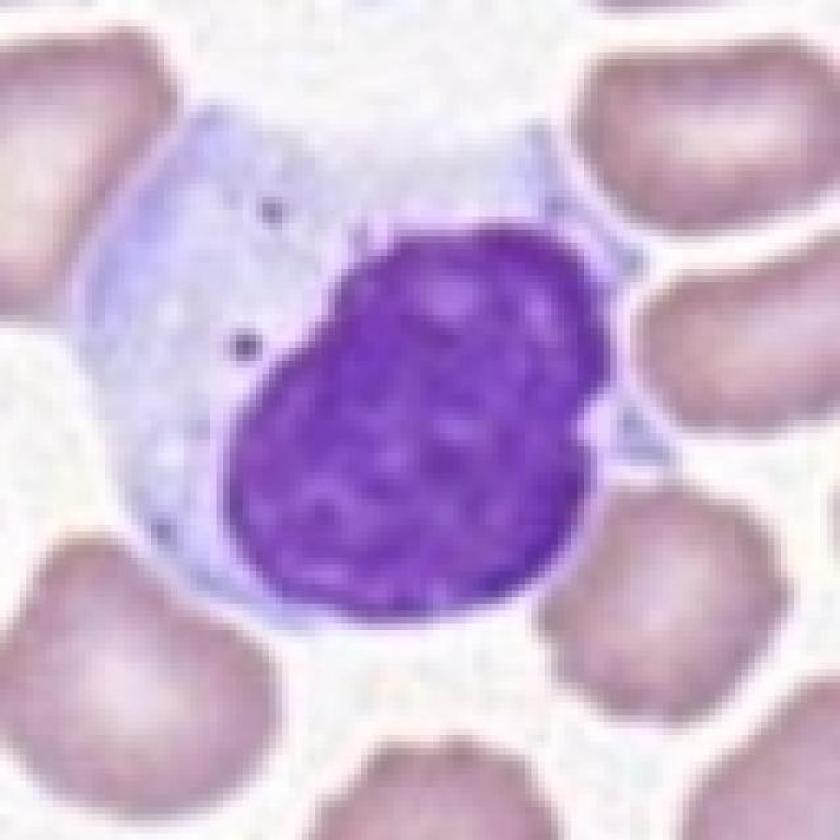lymphocyte: (63, 87, 674, 638)
